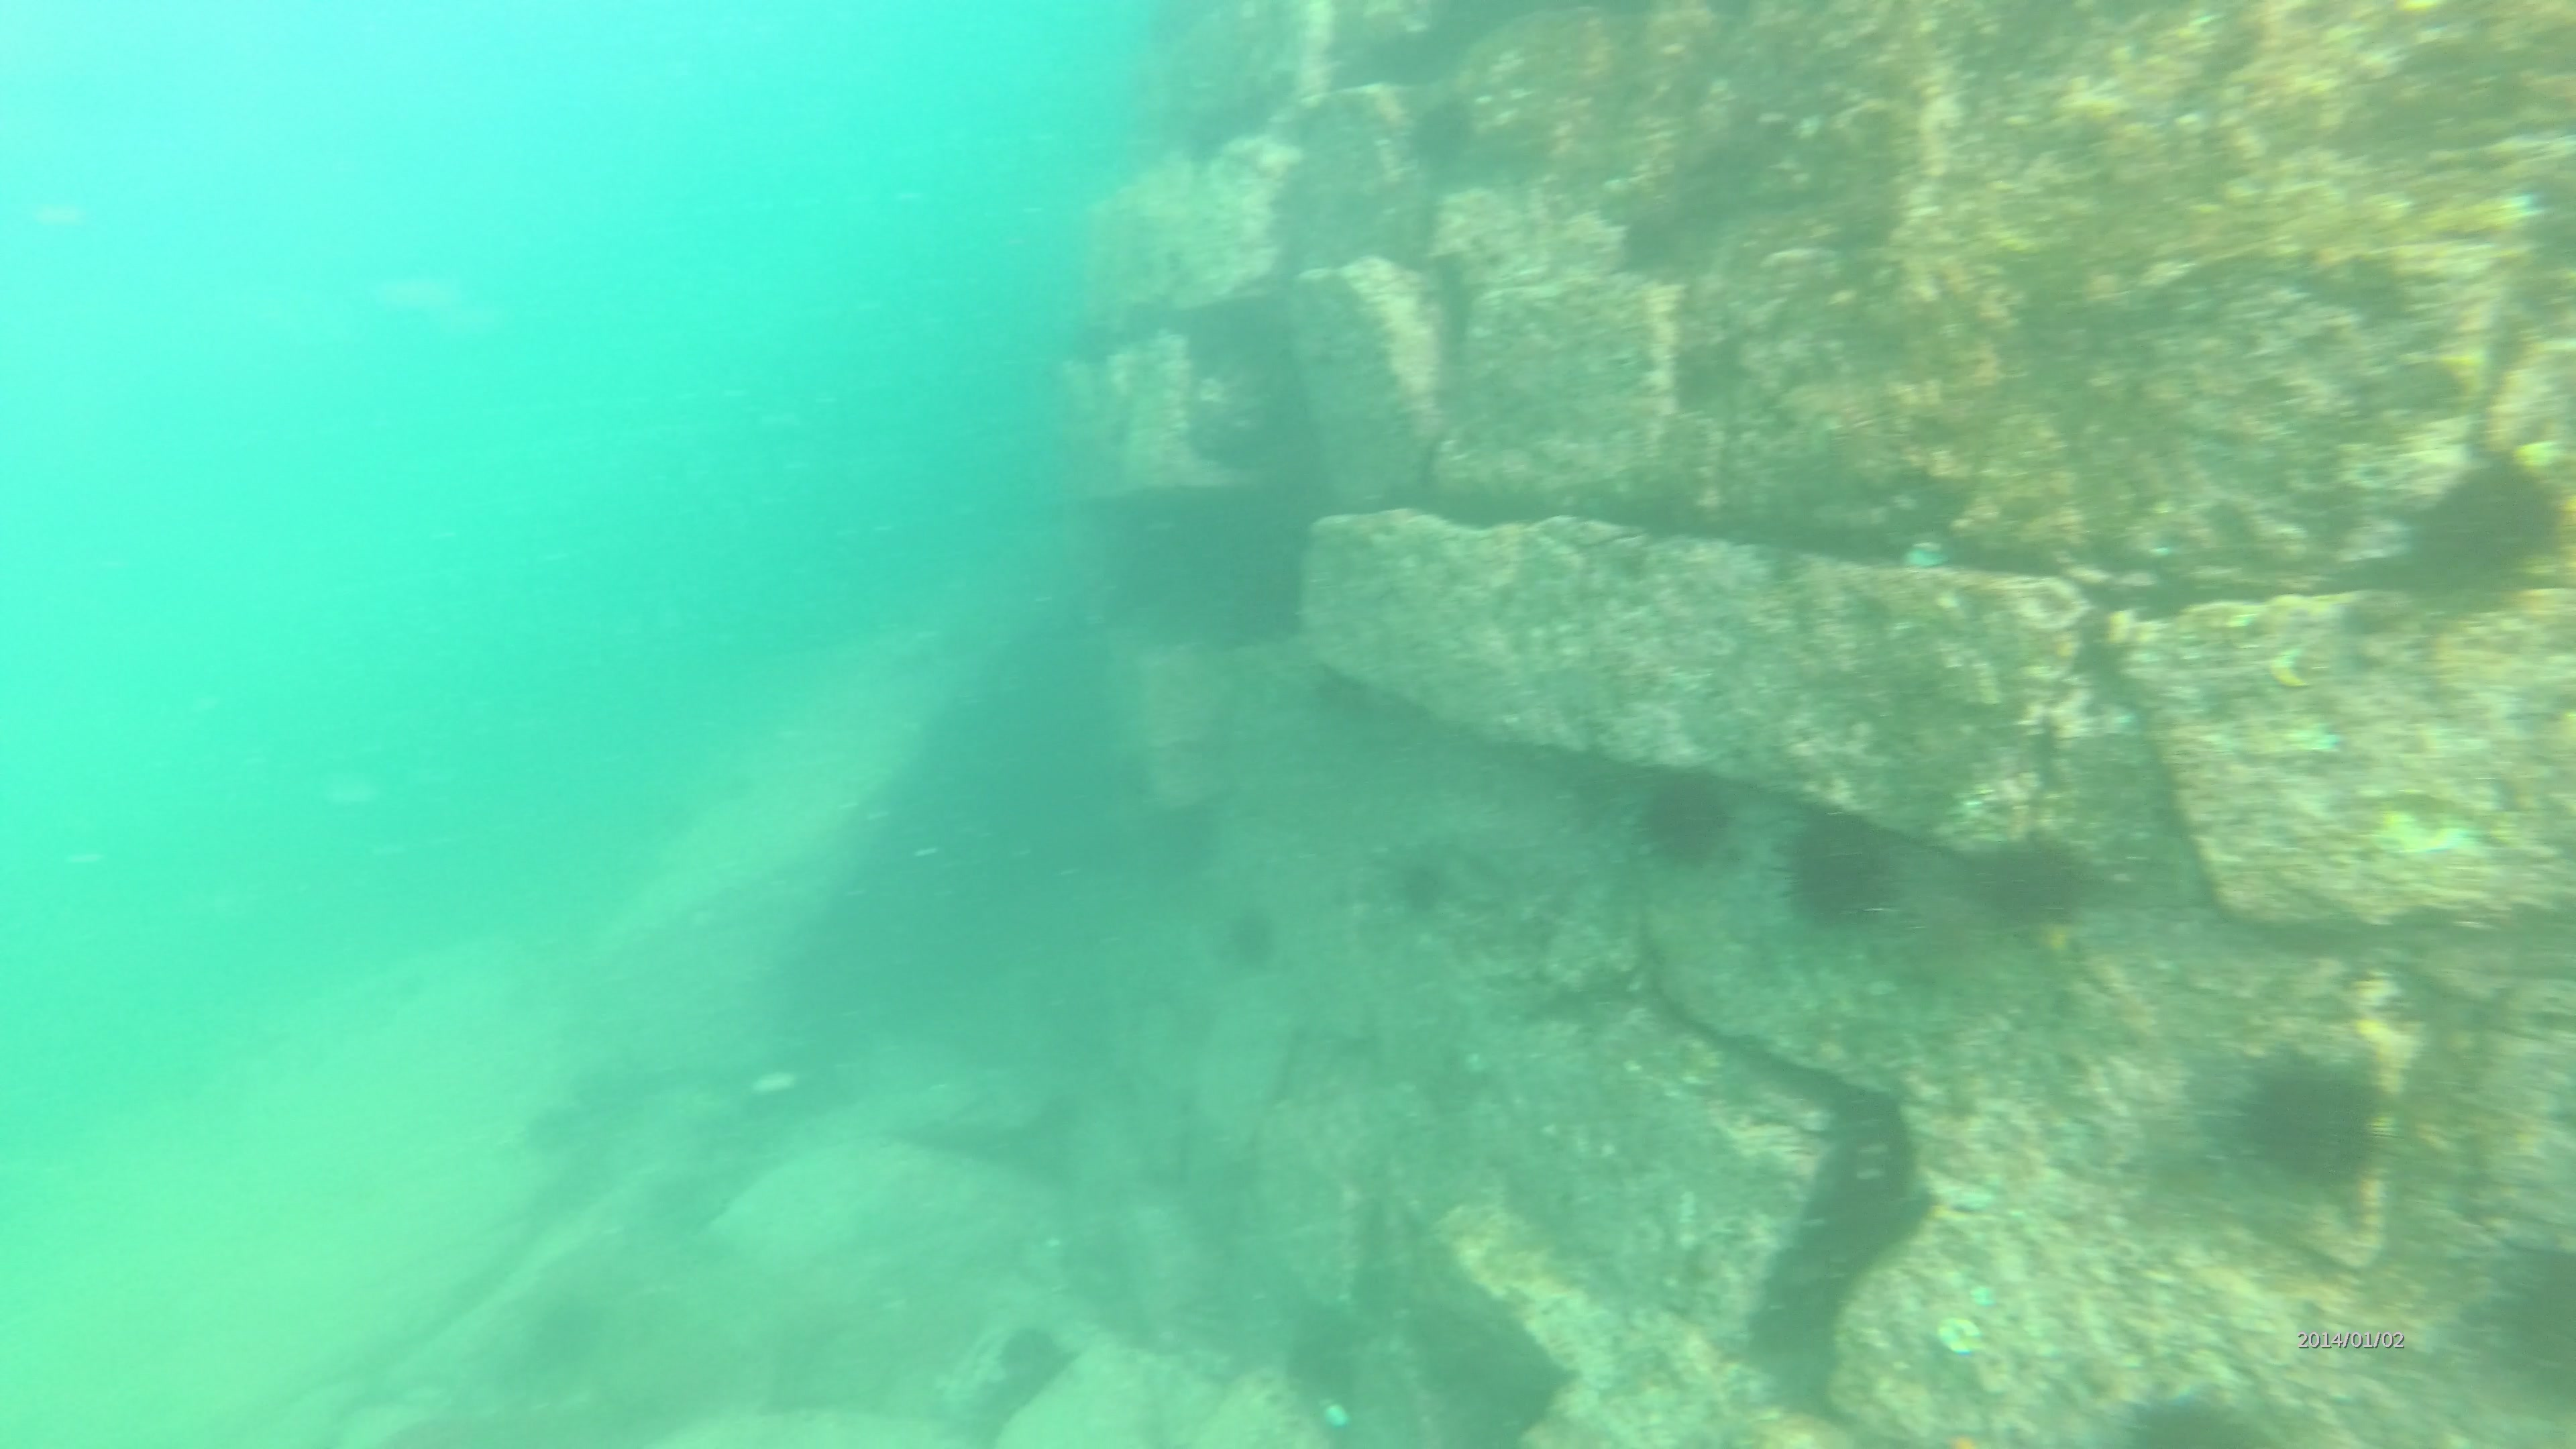echinus: (2422, 460, 2560, 605), (2247, 1053, 2374, 1175), (1789, 816, 1909, 929), (1971, 837, 2074, 929), (1642, 784, 1729, 872), (1000, 1327, 1072, 1396), (1223, 906, 1283, 978), (1401, 867, 1454, 918)
